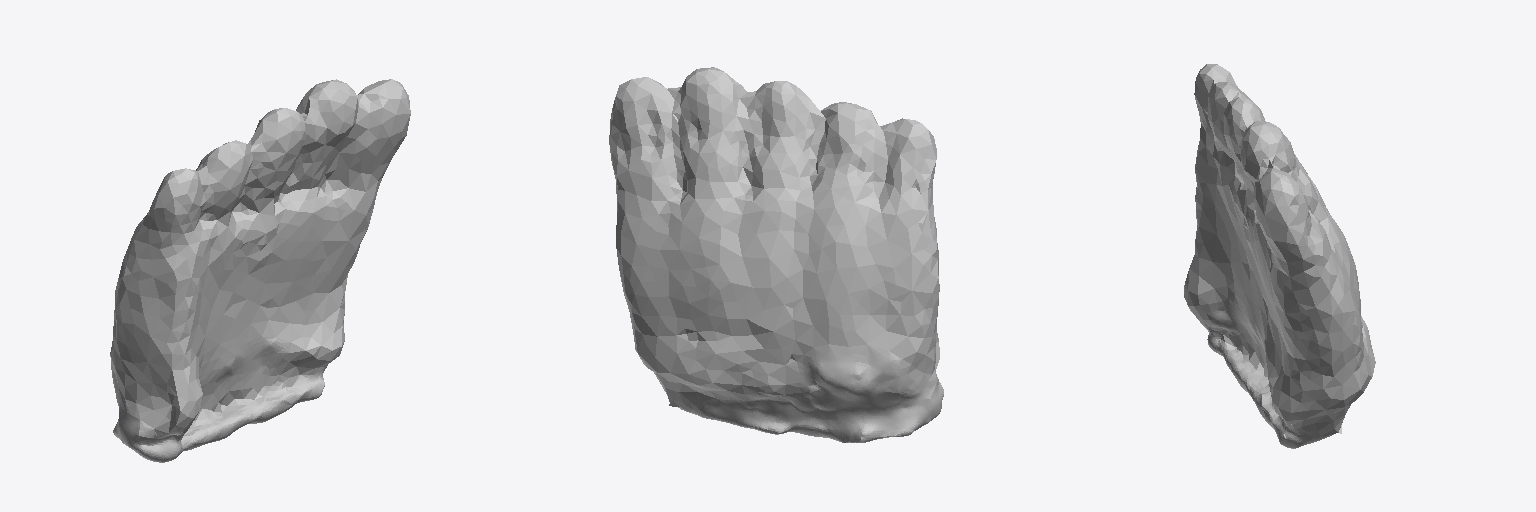
File: PIEZA 19.obj
The picture shows the model from 3 angles: view 1: azimuth 30°, elevation 25°; view 2: azimuth 150°, elevation 25°; view 3: azimuth 270°, elevation 25°; orthographic projection.
Parts seen in each view (by area): view 1: PIEZA_19; view 2: PIEZA_19; view 3: PIEZA_19.
Part boxes in pixels (x1,y1,x2,y2): PIEZA_19: (110, 79, 410, 462); PIEZA_19: (609, 67, 943, 442); PIEZA_19: (1184, 64, 1375, 448).
Size of the model in its own units: 0.2859 by 0.2927 by 0.1546.